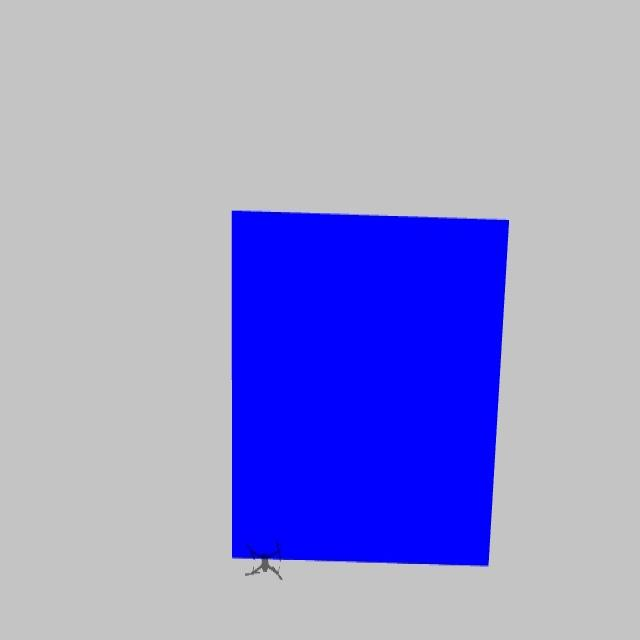blue_square: (232, 212, 511, 568)
